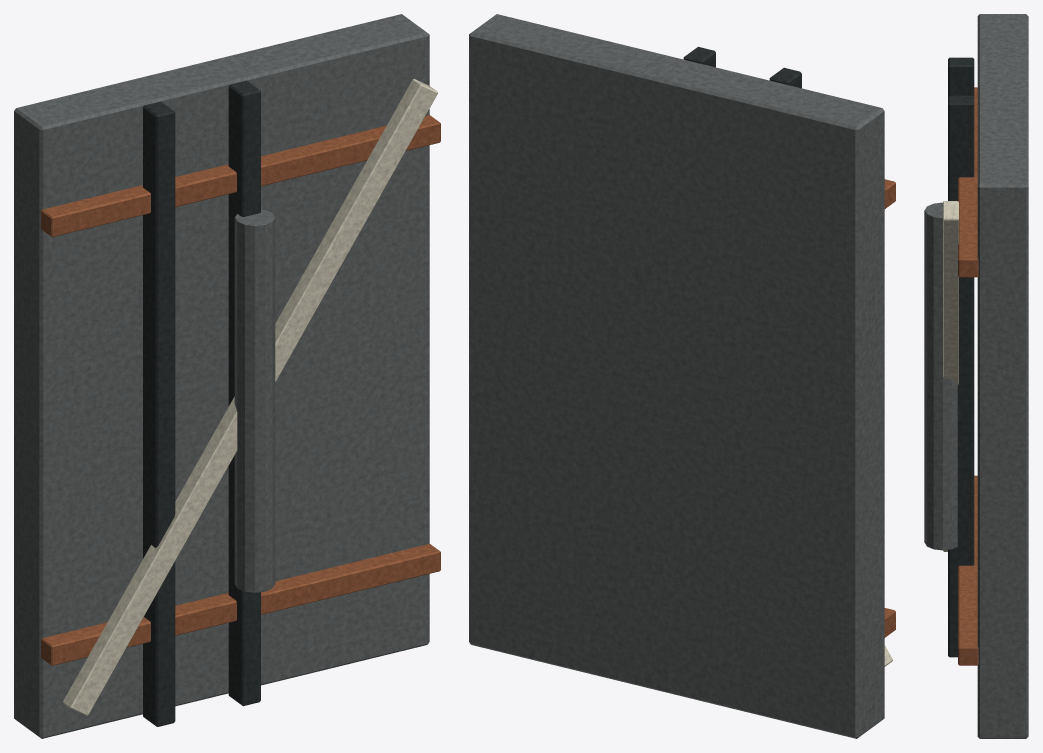
Rendered from METL22CC_lod1.glb.
The picture shows the model from 3 angles, left to right: view 1: azimuth 30°, elevation 25°; view 2: azimuth 150°, elevation 25°; view 3: azimuth 270°, elevation 25°; orthographic projection. The views are drawn at different scales.
Visible parts, largest first — view 1: METL22CC_LOD1; view 2: METL22CC_LOD1; view 3: METL22CC_LOD1.
Boxes of the visible parts, x1,y1,x2,y2 form: METL22CC_LOD1: (14, 14, 440, 738); METL22CC_LOD1: (469, 14, 895, 738); METL22CC_LOD1: (924, 14, 1028, 738).
Size of the model in its own units: 2 by 3 by 0.51.
Materials: 4 (4 with a texture image).
